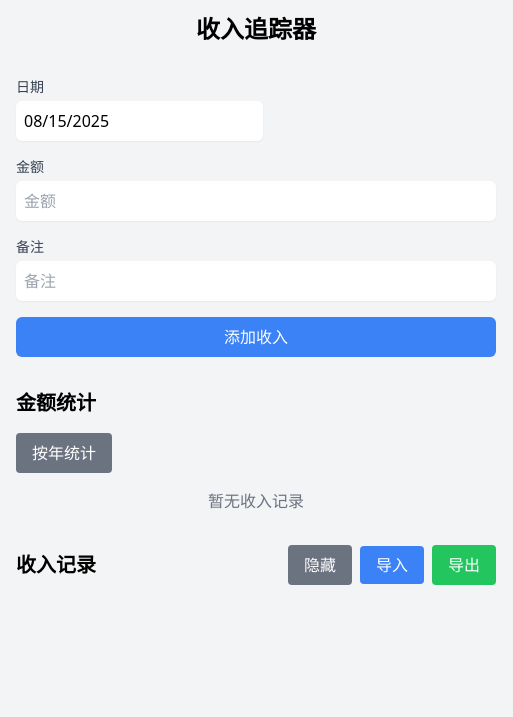
Test: App 组件 › 添加多个收入记录后统计信息应该正确更新
# 添加第一个收入记录
Type "收入1" into the field with placeholder "备注" at x=256, y=281, box [16,261,496,301]
Type "1000" into the number field with placeholder "金额" at x=256, y=201, box [16,181,496,221]
Replace the text in the field with placeholder "日期" below "日期" with "2023-01-15" at x=140, y=121, box [16,101,263,141]
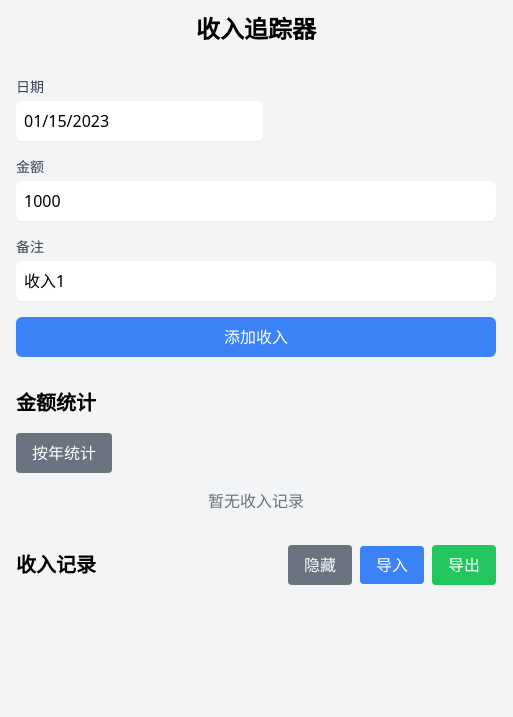
Click the button "添加收入" at x=256, y=337, box [16,317,496,357]
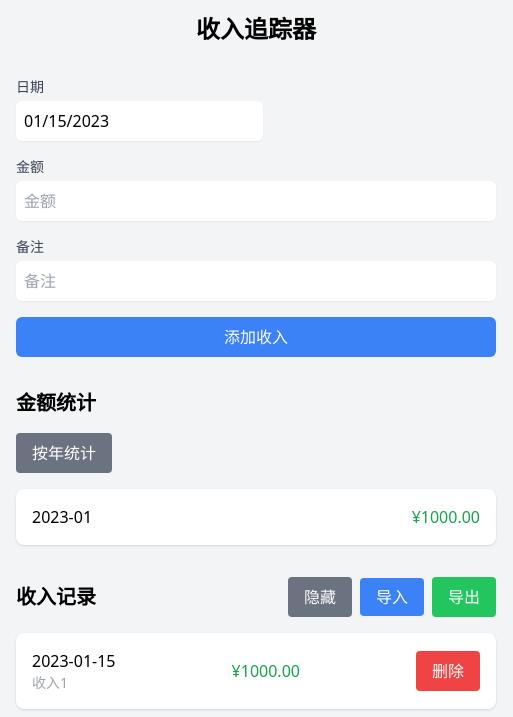
expect the 1st text "¥1000.00" is shown: met, box [412,505,480,529]
# 添加第二个收入记录
Type "收入2" into the field with placeholder "备注" at x=256, y=281, box [16,261,496,301]
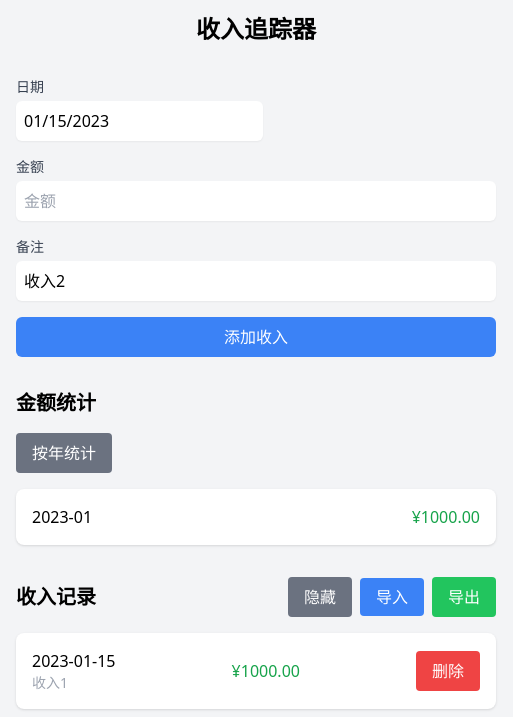
Type "2000" into the number field with placeholder "金额" at x=256, y=201, box [16,181,496,221]
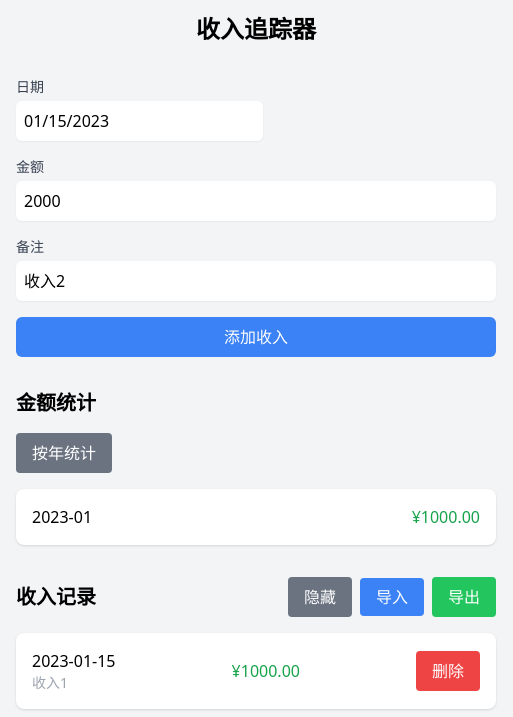
Replace the text in the field with placeholder "日期" below "日期" with "2023-02-15" at x=140, y=121, box [16,101,263,141]
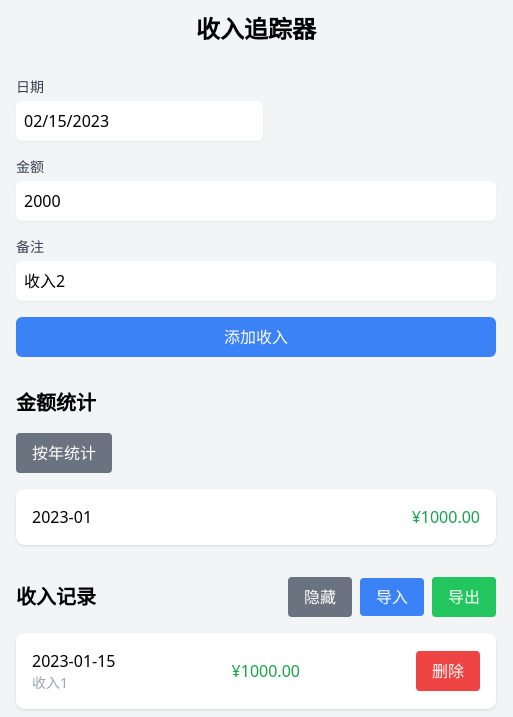
Click the button "添加收入" at x=256, y=337, box [16,317,496,357]
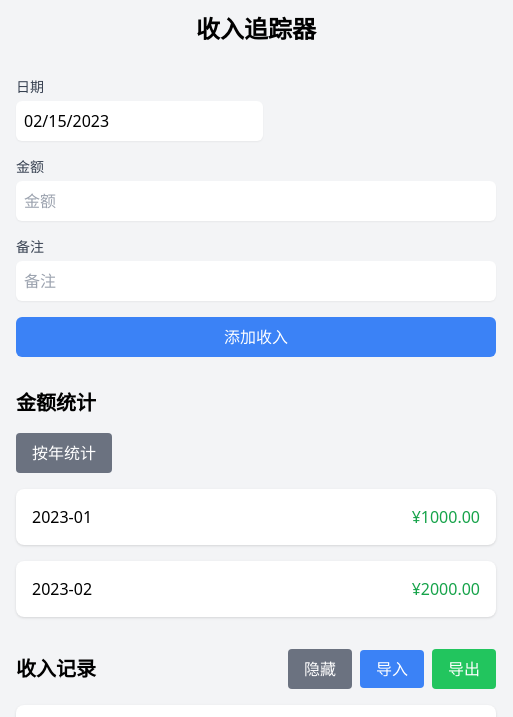
expect the text "2023-01" is shown: met, box [32,505,92,529]
expect the text "¥2000.00" is shown 2 times: met
expect the text "2023-02" is shown: met, box [32,577,92,601]
